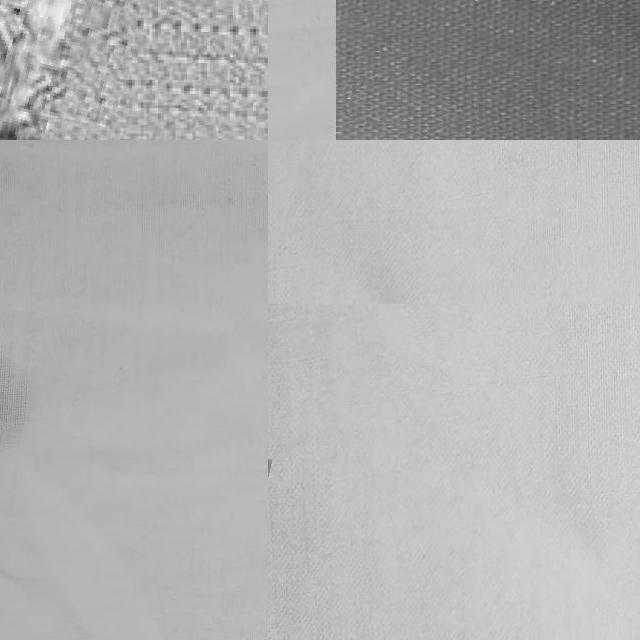Thread_other: (0, 256, 63, 534)
